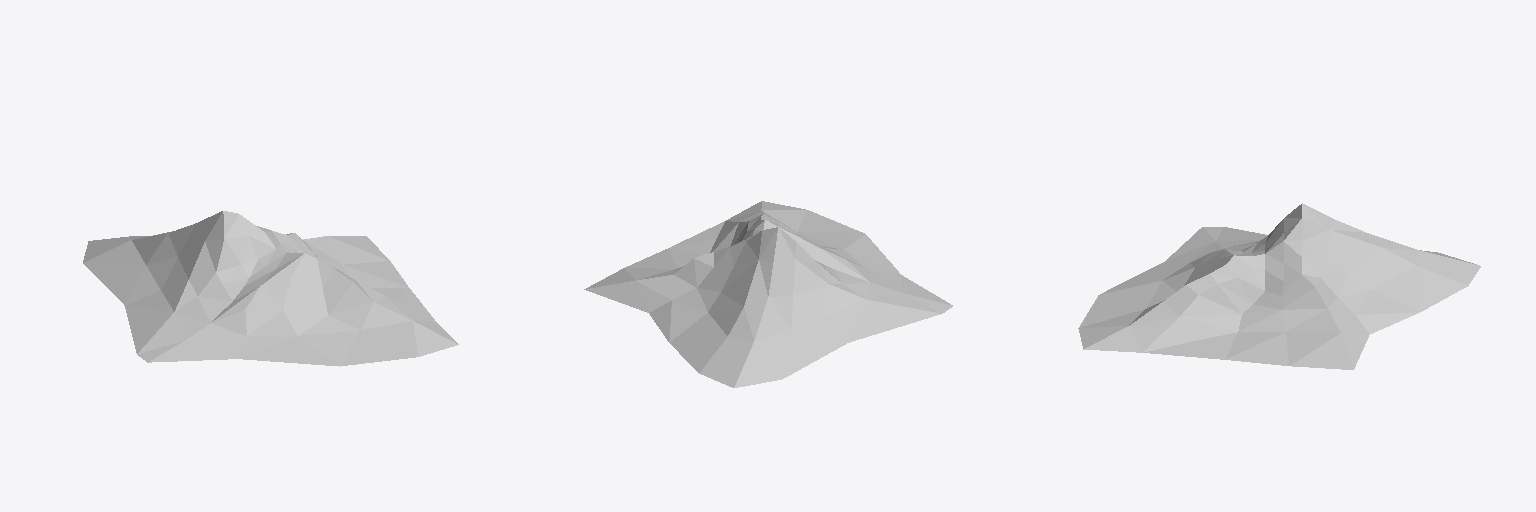
File: mountain_basic_01.obj
3 renders of one model, left to right at view 1: azimuth 30°, elevation 25°; view 2: azimuth 150°, elevation 25°; view 3: azimuth 270°, elevation 25°, orthographic.
Visible parts, largest first — view 1: Cube; view 2: Cube; view 3: Cube.
Part boxes in pixels (x1,y1,x2,y2): Cube: (83, 211, 458, 366); Cube: (584, 201, 952, 387); Cube: (1078, 203, 1480, 369).
Bounding box in the file's own units: 9.2 × 2.54 × 10.91.